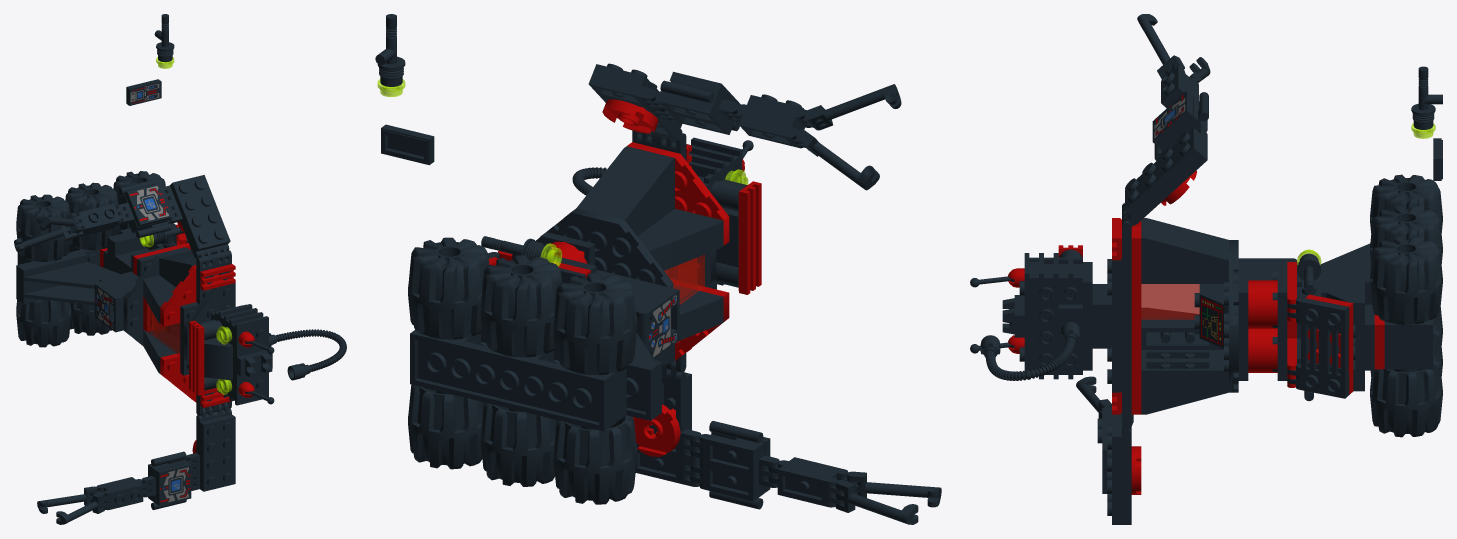
Rendered from spyrius_lego.obj.
3 views of the same model, side by side, from view 1: azimuth 30°, elevation 25°; view 2: azimuth 150°, elevation 25°; view 3: azimuth 270°, elevation 25° (orthographic). The views are drawn at different scales.
Parts seen in each view (by area): view 1: black_surface, red_surface, silver_surface, trans_red_surface, trans_neon_green_surface; view 2: black_surface, red_surface, trans_red_surface, trans_neon_green_surface; view 3: black_surface, red_surface, trans_red_surface.
Boxes of the visible parts, x1,y1,x2,y2 form: black_surface: [14, 14, 346, 524]; red_surface: [95, 87, 254, 502]; silver_surface: [96, 83, 188, 502]; trans_red_surface: [147, 303, 180, 355]; trans_neon_green_surface: [139, 57, 232, 394]; black_surface: [375, 14, 941, 524]; red_surface: [489, 99, 761, 456]; trans_red_surface: [664, 254, 704, 304]; trans_neon_green_surface: [377, 79, 748, 266]; black_surface: [970, 14, 1442, 524]; red_surface: [1008, 94, 1384, 494]; trans_red_surface: [1141, 284, 1199, 319].
Bounding box in the file's own units: 329 × 452 × 389.
